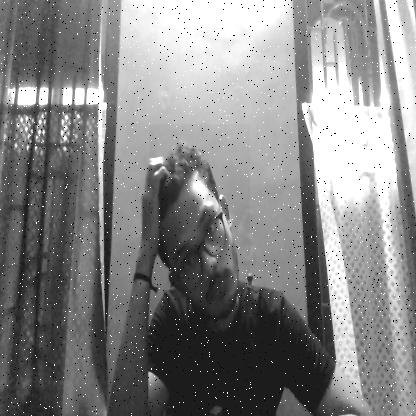Distracted: (149, 124, 250, 338)
